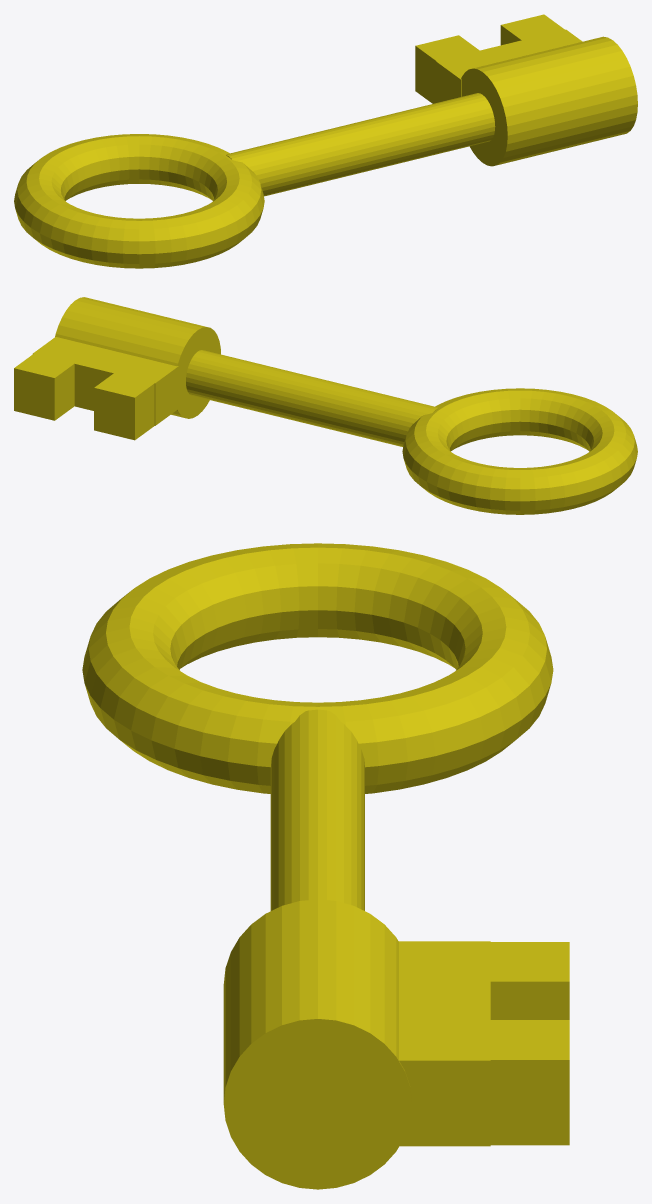
Rendered from PlainKey.fbx.
3 views of the same model, one above another, from view 1: azimuth 30°, elevation 25°; view 2: azimuth 150°, elevation 25°; view 3: azimuth 270°, elevation 25° (orthographic). The views are drawn at different scales.
Visible parts, largest first — view 1: Cube.002; view 2: Cube.002; view 3: Cube.002.
Boxes of the visible parts, x1,y1,x2,y2 form: Cube.002: [14, 14, 637, 268]; Cube.002: [14, 297, 637, 514]; Cube.002: [82, 543, 569, 1189].
Size of the model in its own units: 670 by 100 by 259.
